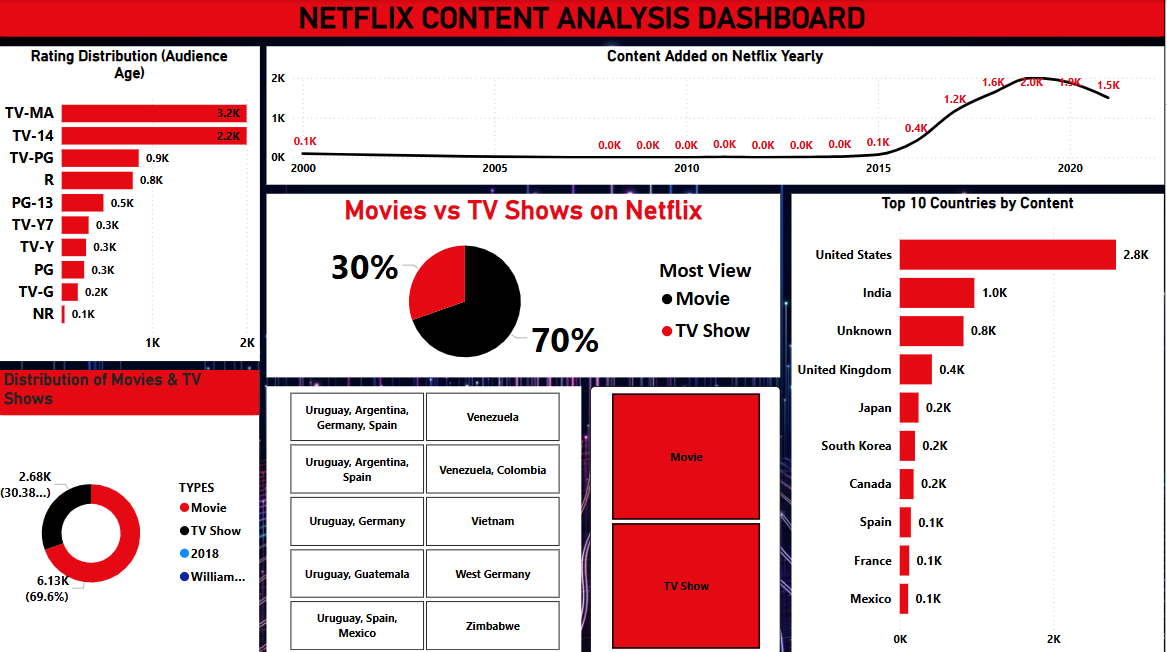

Layout of this report page (visuals, bound fields, positions):
{"tool":"powerbi","page":{"name":"Page 1","canvas":[1280,720],"ordinal":0},"visuals":[{"type":"textbox","title":"NETFLIX CONTENT ANALYSIS DASHBOARD","box":[0,0,1279.6,40],"z":0},{"type":"pieChart","title":"Movies vs TV Shows on Netflix","fields":{"Category":["netflix_cleaned_final.type"],"Y":["netflix_cleaned_final.title"]},"box":[293.7,212.7,564,201.7],"z":1},{"type":"lineChart","title":"Content Added on Netflix Yearly","fields":{"Category":["netflix_cleaned_final.year_added"],"Y":["netflix_cleaned_final.show_id"]},"box":[293.7,50.8,985.3,152.3],"z":2},{"type":"barChart","title":"Top 10 Countries by Content","fields":{"Category":["netflix_cleaned_final.country"],"Y":["netflix_cleaned_final.show_id"]},"box":[870,212.7,408.9,507.7],"z":3},{"type":"barChart","title":"Rating Distribution (Audience Age)","fields":{"Category":["netflix_cleaned_final.rating"],"Y":["netflix_cleaned_final.show_id"]},"box":[0,51.2,286,345.3],"z":4},{"type":"donutChart","title":"Distribution of Movies & TV Shows","fields":{"Category":["netflix_cleaned_final.type"],"Y":["netflix_cleaned_final.show_id"]},"box":[0,406.2,285.4,314.2],"z":5},{"type":"slicer","fields":{"Values":["netflix_cleaned_final.type"]},"box":[649.1,424,208.6,296.4],"z":6},{"type":"slicer","fields":{"Values":["netflix_cleaned_final.country"]},"box":[293.7,424,345.8,296.4],"z":7}]}

Visuals, with their boxes in screenshot pixels (x1, y1, x2, y2), scaled from the page's 1280x720 canvas onto the 1167x652 screenshot:
"NETFLIX CONTENT ANALYSIS DASHBOARD" textbox: box=[0, 0, 1166, 36]
"Movies vs TV Shows on Netflix" pieChart: box=[268, 193, 782, 375]
"Content Added on Netflix Yearly" lineChart: box=[268, 46, 1166, 184]
"Top 10 Countries by Content" barChart: box=[793, 193, 1166, 651]
"Rating Distribution (Audience Age)" barChart: box=[0, 46, 261, 359]
"Distribution of Movies & TV Shows" donutChart: box=[0, 368, 260, 651]
slicer - netflix_cleaned_final.type: box=[592, 384, 782, 651]
slicer - netflix_cleaned_final.country: box=[268, 384, 583, 651]
